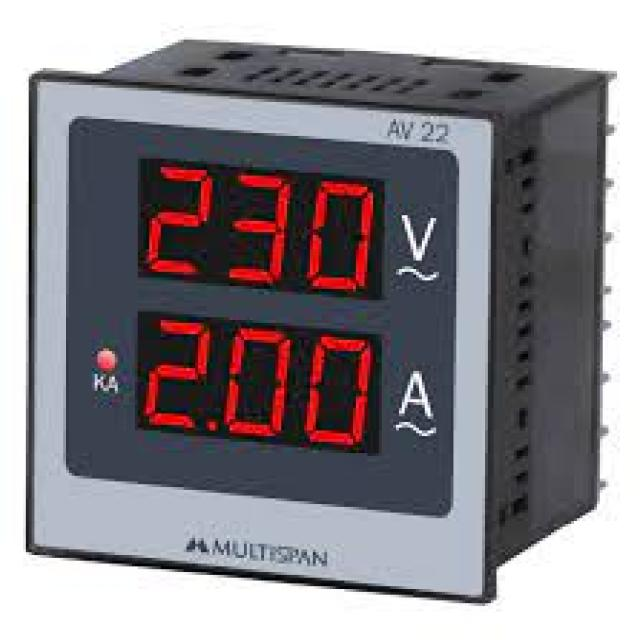.: (203, 413, 221, 433)
0: (308, 325, 382, 455), (312, 169, 384, 300), (226, 321, 298, 448)
2: (140, 154, 229, 280), (140, 313, 216, 438)
3: (236, 162, 301, 290)
screen: (140, 153, 390, 303), (138, 311, 386, 456)
